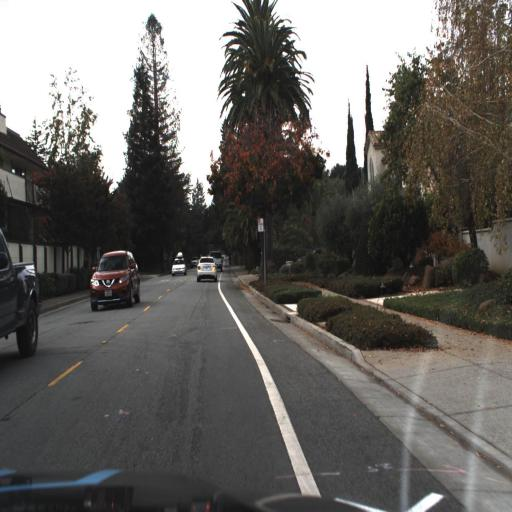car: (0, 222, 40, 368), (86, 246, 143, 314), (194, 252, 219, 283), (169, 248, 189, 278), (207, 248, 224, 274)
